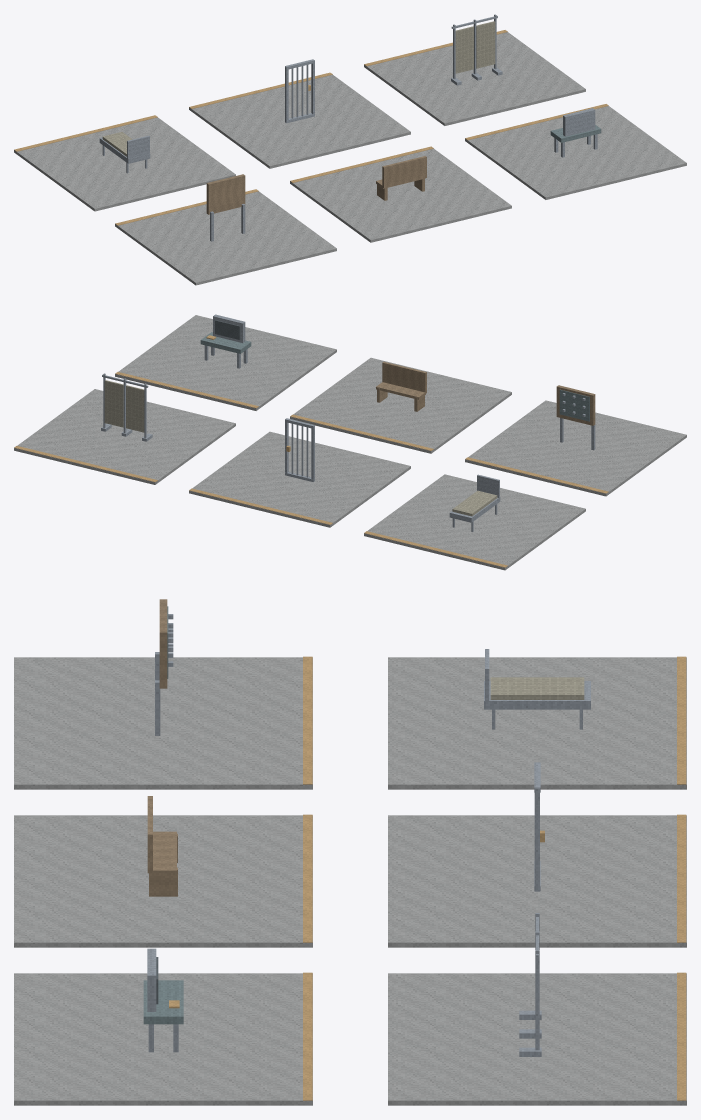
The model's file is level_blockout_kit_prison_p01.glb.
The picture shows the model from 3 angles, top to bottom: view 1: azimuth 30°, elevation 25°; view 2: azimuth 150°, elevation 25°; view 3: azimuth 270°, elevation 25°; orthographic projection. The views are drawn at different scales.
Visible parts, largest first — view 1: level_blockout_kit_prison_p01; view 2: level_blockout_kit_prison_p01; view 3: level_blockout_kit_prison_p01.
Part boxes in pixels (bbox=[...]): level_blockout_kit_prison_p01: bbox=[14, 14, 686, 285]; level_blockout_kit_prison_p01: bbox=[14, 314, 686, 570]; level_blockout_kit_prison_p01: bbox=[14, 599, 686, 1105].
Bounding box in the file's own units: 19.65 × 2.27 × 12.6.
7 materials, 7 textured.
